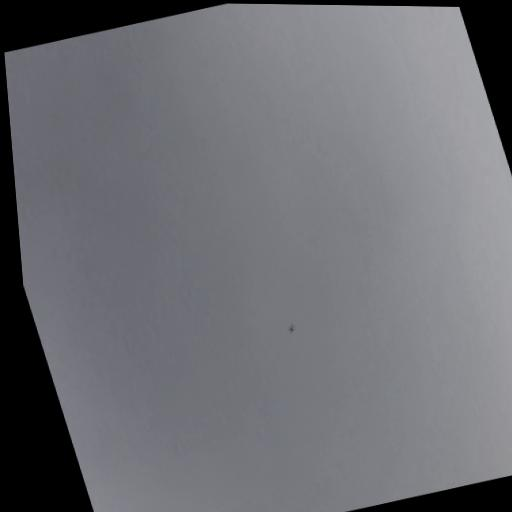drones: (286, 321, 298, 337)
